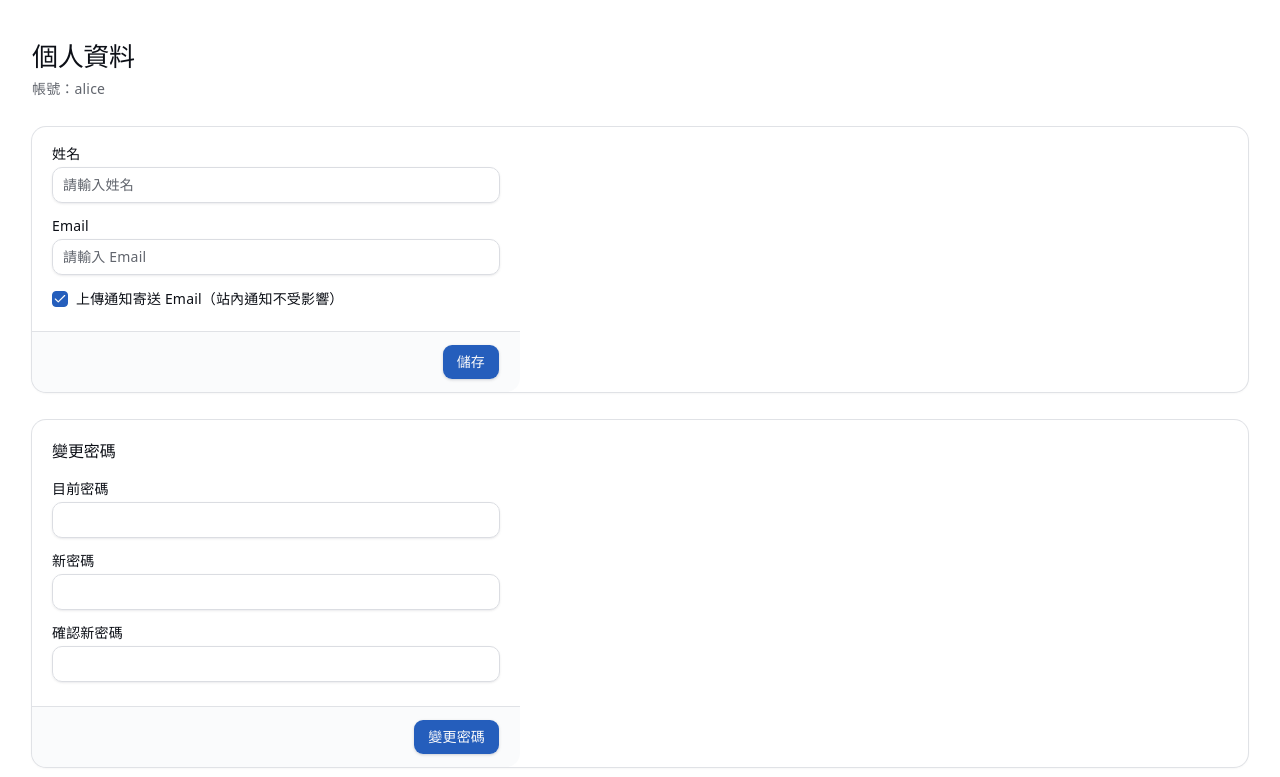
Test: ProfilePage › shows an error message when the current password is wrong
Step 1. Type "wrong-pw" into the password field labelled "目前密碼" → coordinates (276, 520), box [52, 502, 500, 538]
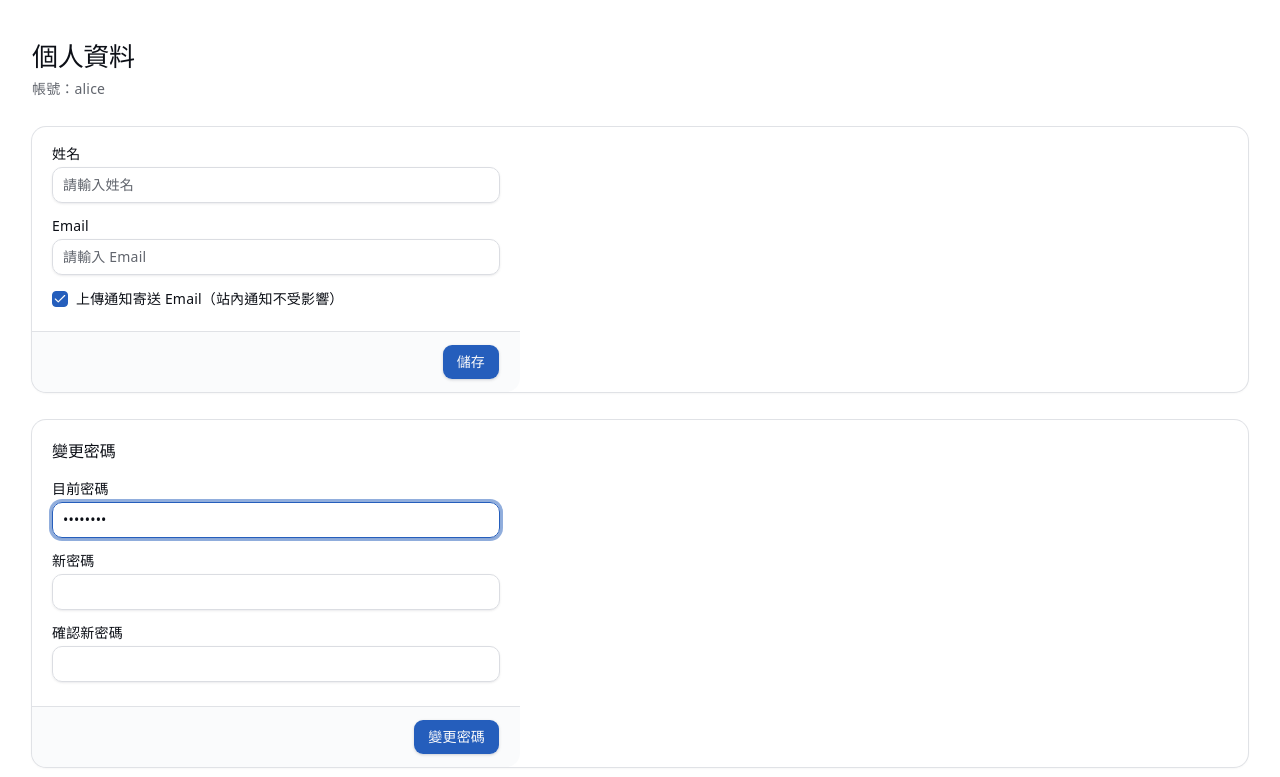
Step 2. Type "new-pw-123" into the password field labelled "新密碼" → coordinates (276, 592), box [52, 574, 500, 610]
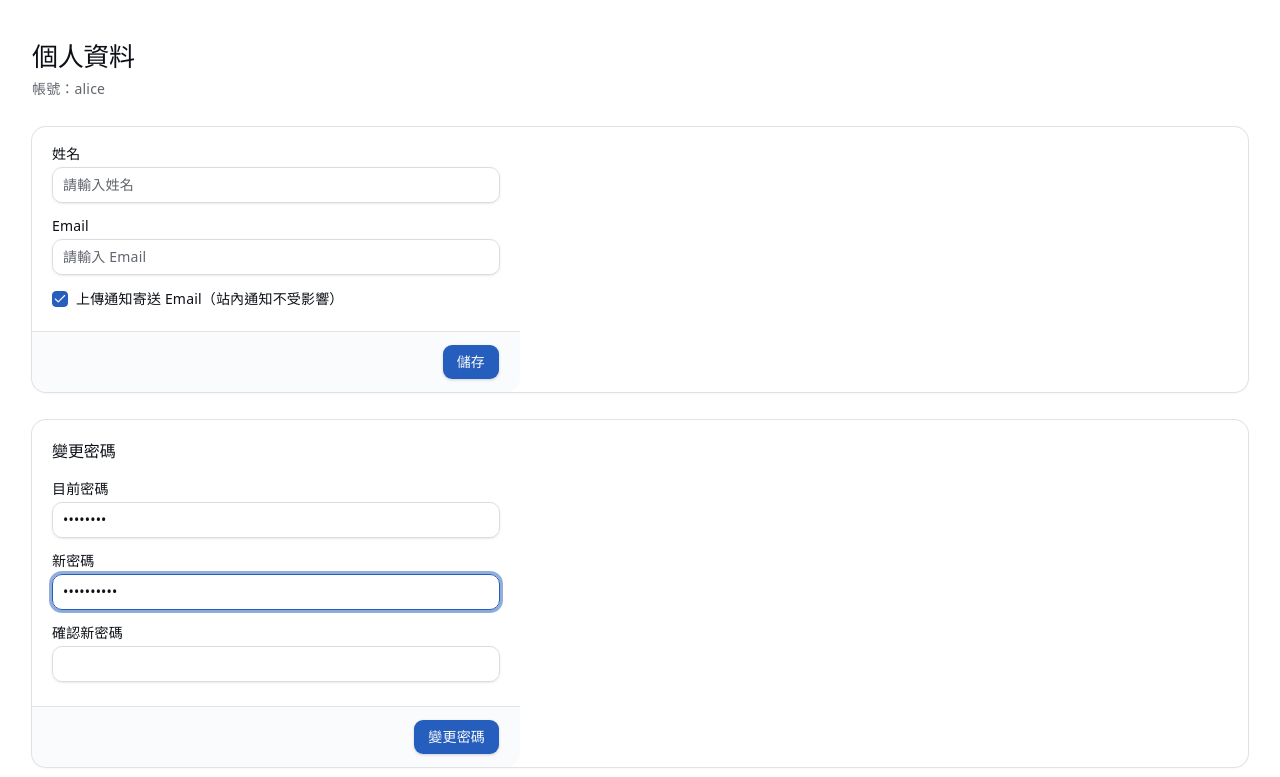
Step 3. Type "new-pw-123" into the password field labelled "確認新密碼" → coordinates (276, 664), box [52, 646, 500, 682]
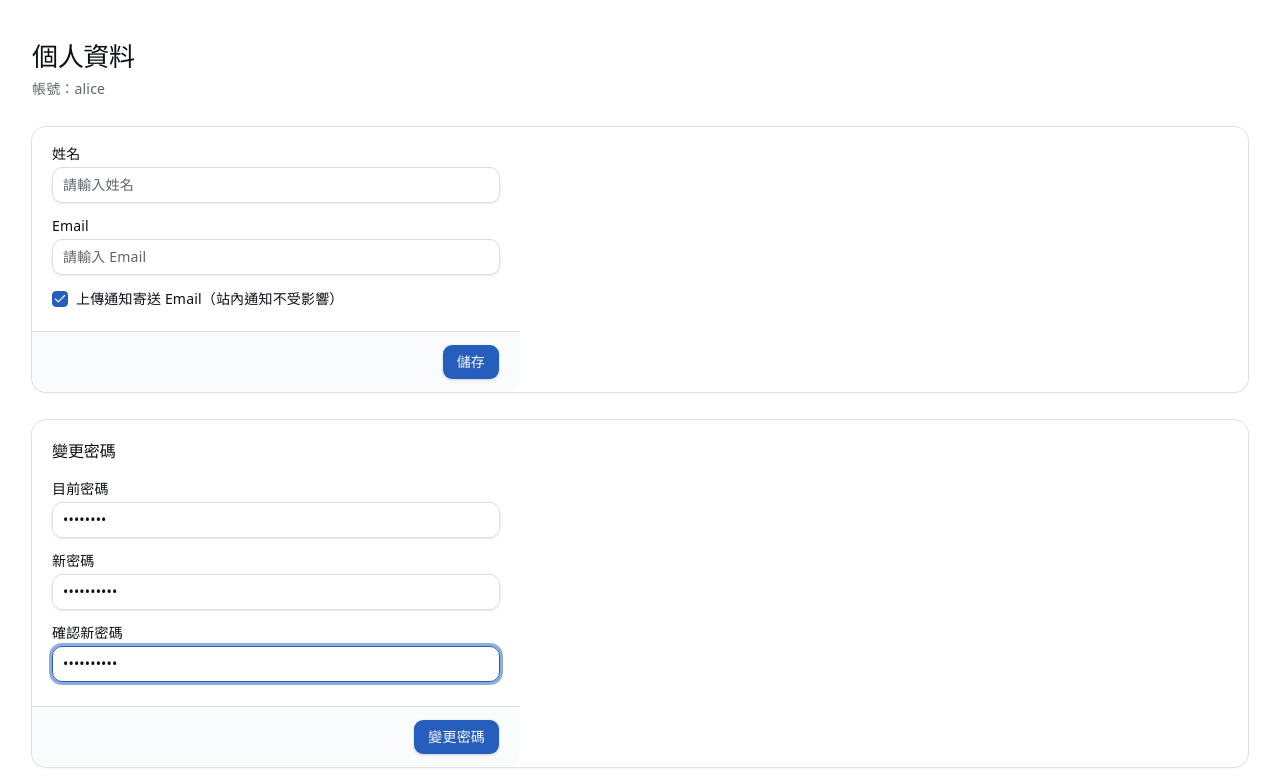
Step 4. Click the button "變更密碼" → coordinates (457, 737), box [413, 719, 500, 755]
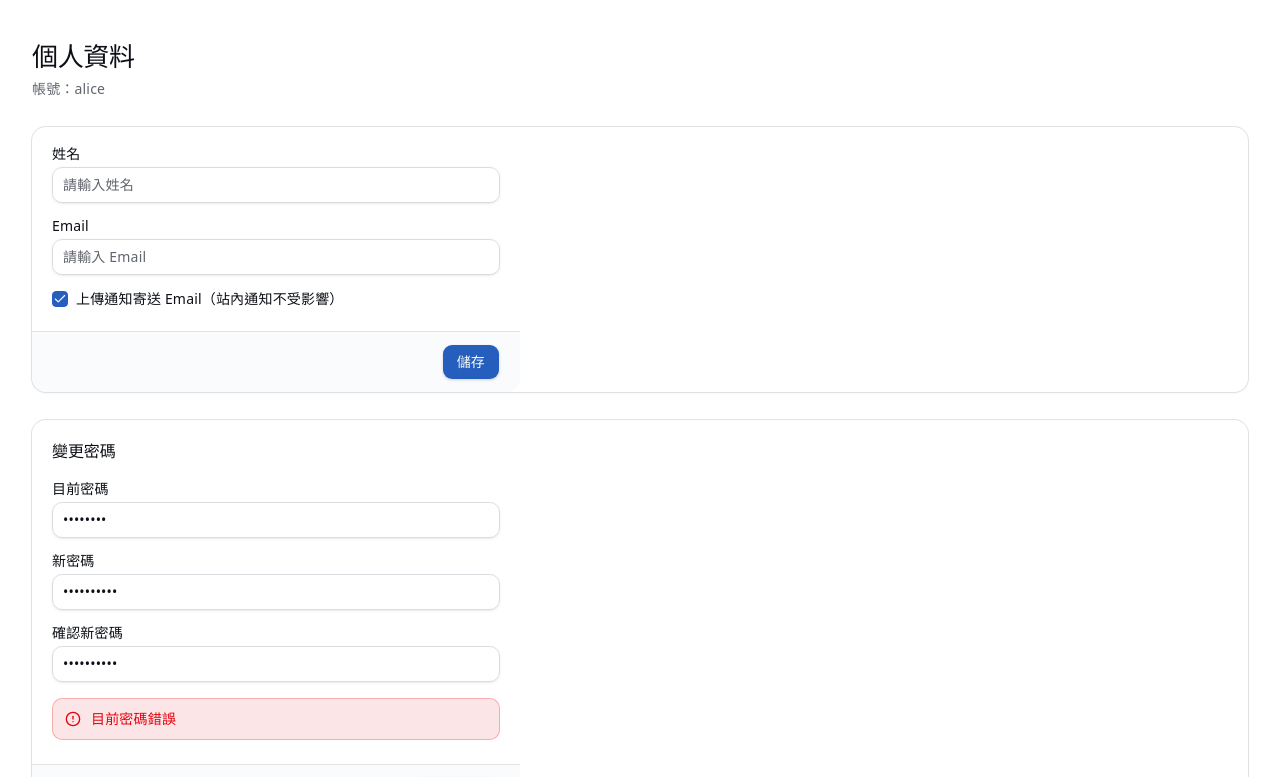
Check: the text "目前密碼錯誤" is shown, box [91, 709, 176, 729]
